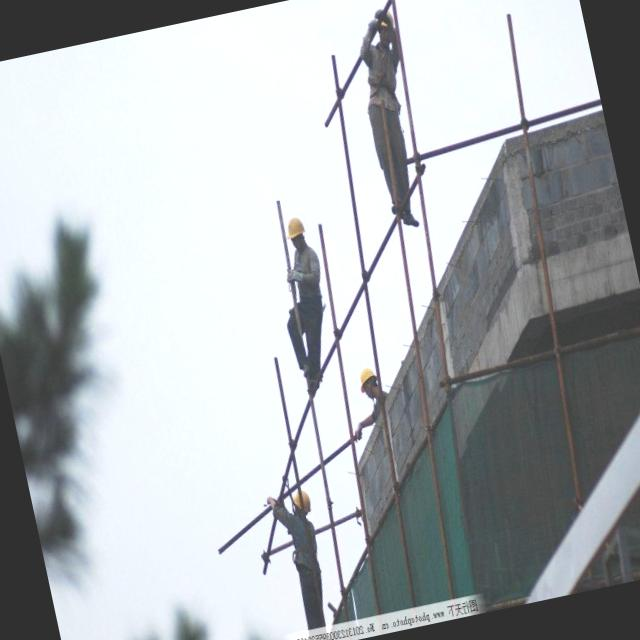helmet: (355, 364, 385, 406), (290, 486, 315, 514), (284, 214, 304, 238)
